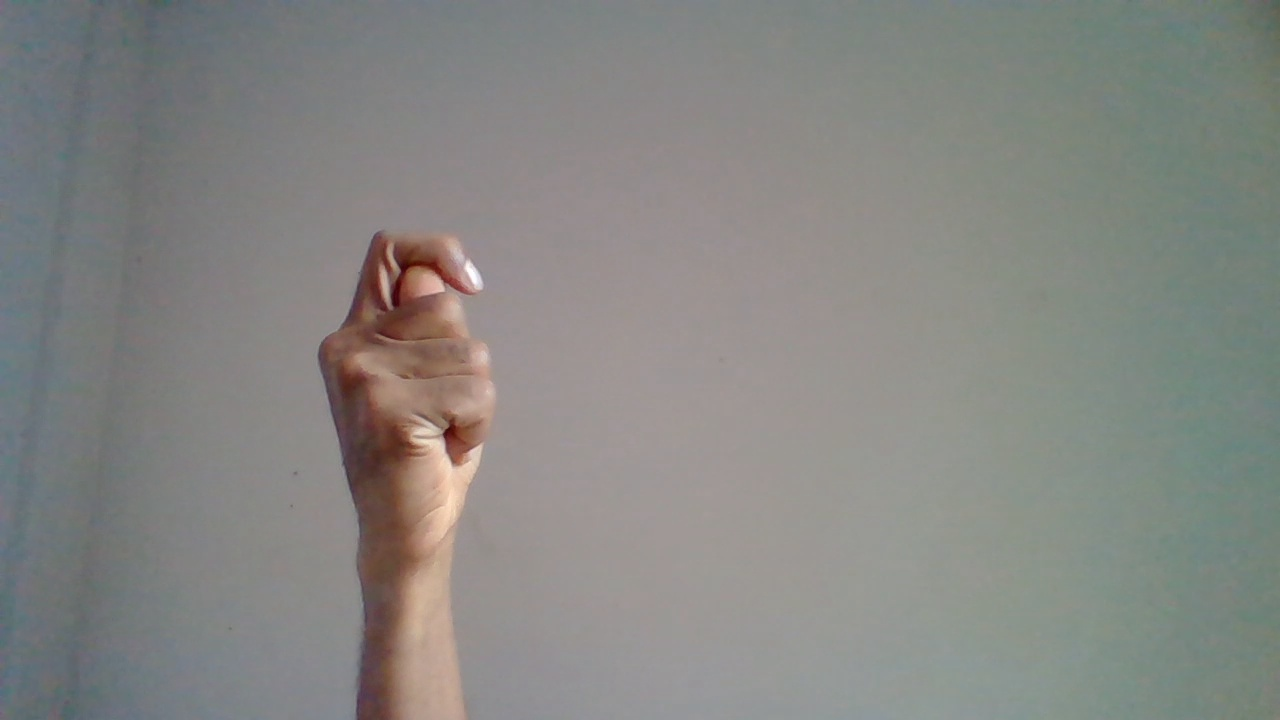che: (321, 234, 501, 683)
